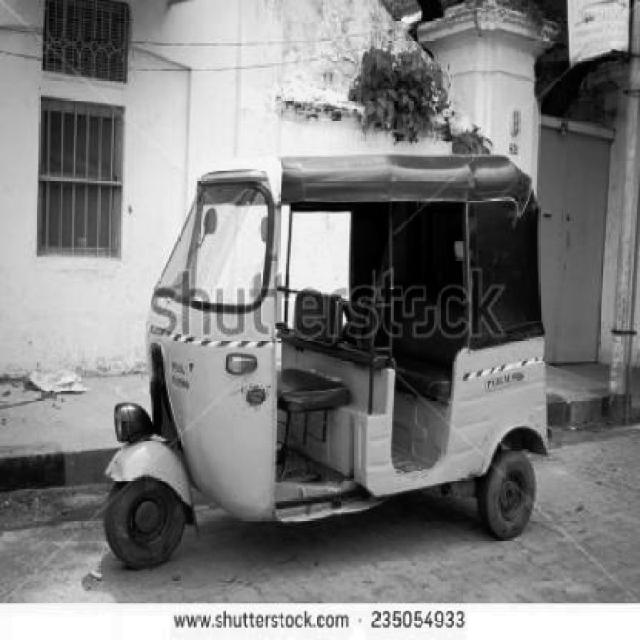Auto-Rickshaw: (102, 154, 556, 568)
